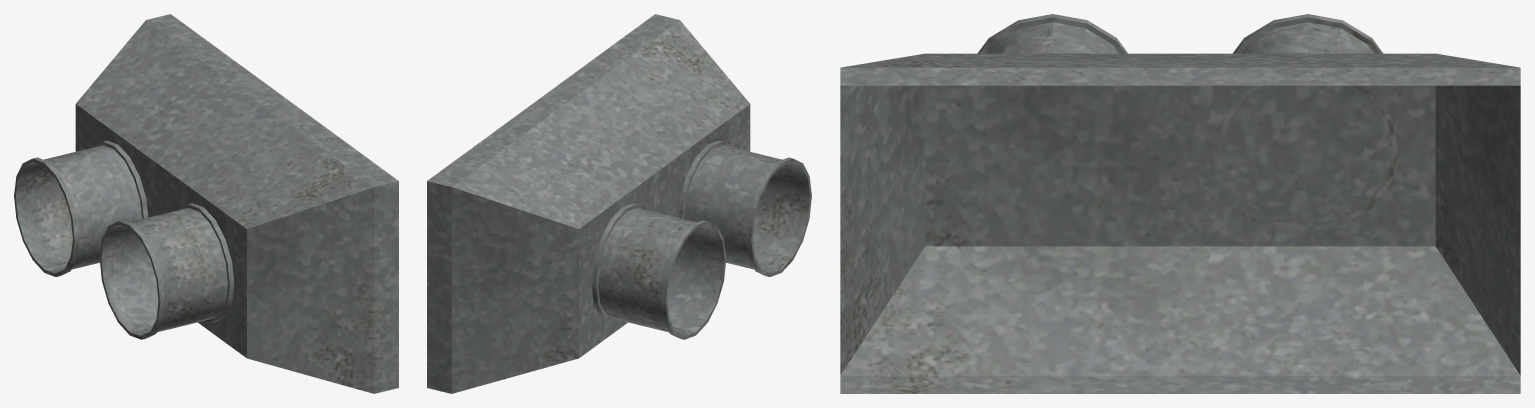
The model's file is duct_change_round2.glb.
The picture shows the model from 3 angles, left to right: view 1: azimuth 30°, elevation 25°; view 2: azimuth 150°, elevation 25°; view 3: azimuth 270°, elevation 25°; orthographic projection. The views are drawn at different scales.
Parts seen in each view (by area): view 1: duct_change_round2; view 2: duct_change_round2; view 3: duct_change_round2.
Boxes of the visible parts, left/top/right/bottom form: duct_change_round2: left=14, top=14, right=398, bottom=393; duct_change_round2: left=427, top=14, right=811, bottom=393; duct_change_round2: left=840, top=14, right=1520, bottom=393.
Bounding box in the file's own units: 0.6096 × 0.6096 × 1.22.
1 material, 1 textured.
